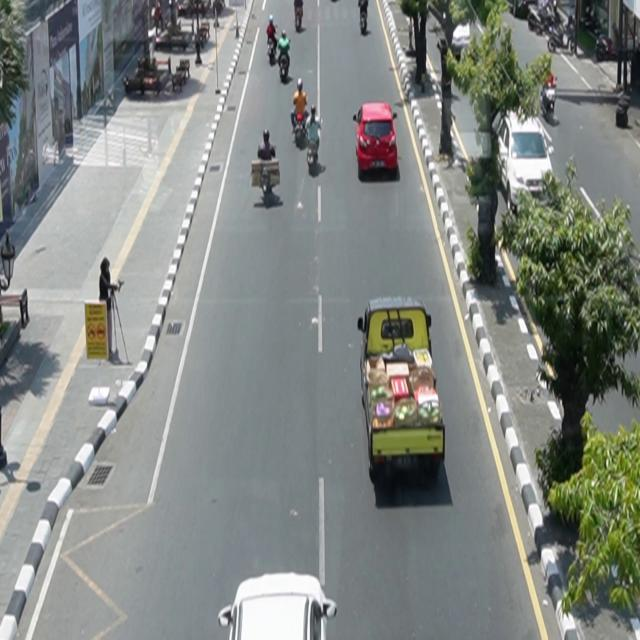car: (358, 295, 446, 483), (219, 573, 338, 640), (492, 107, 556, 217), (353, 102, 399, 176)
